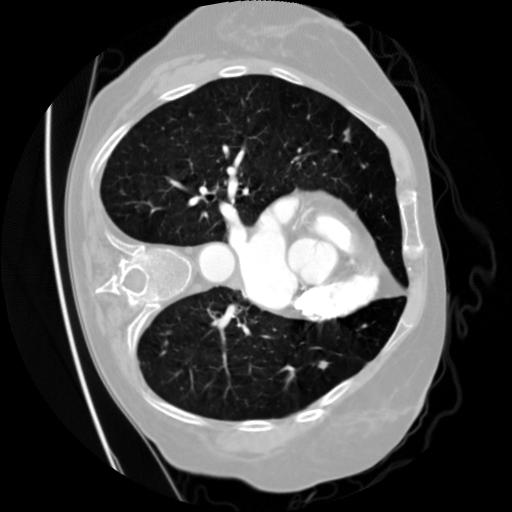nodule: (342, 127, 356, 141)
